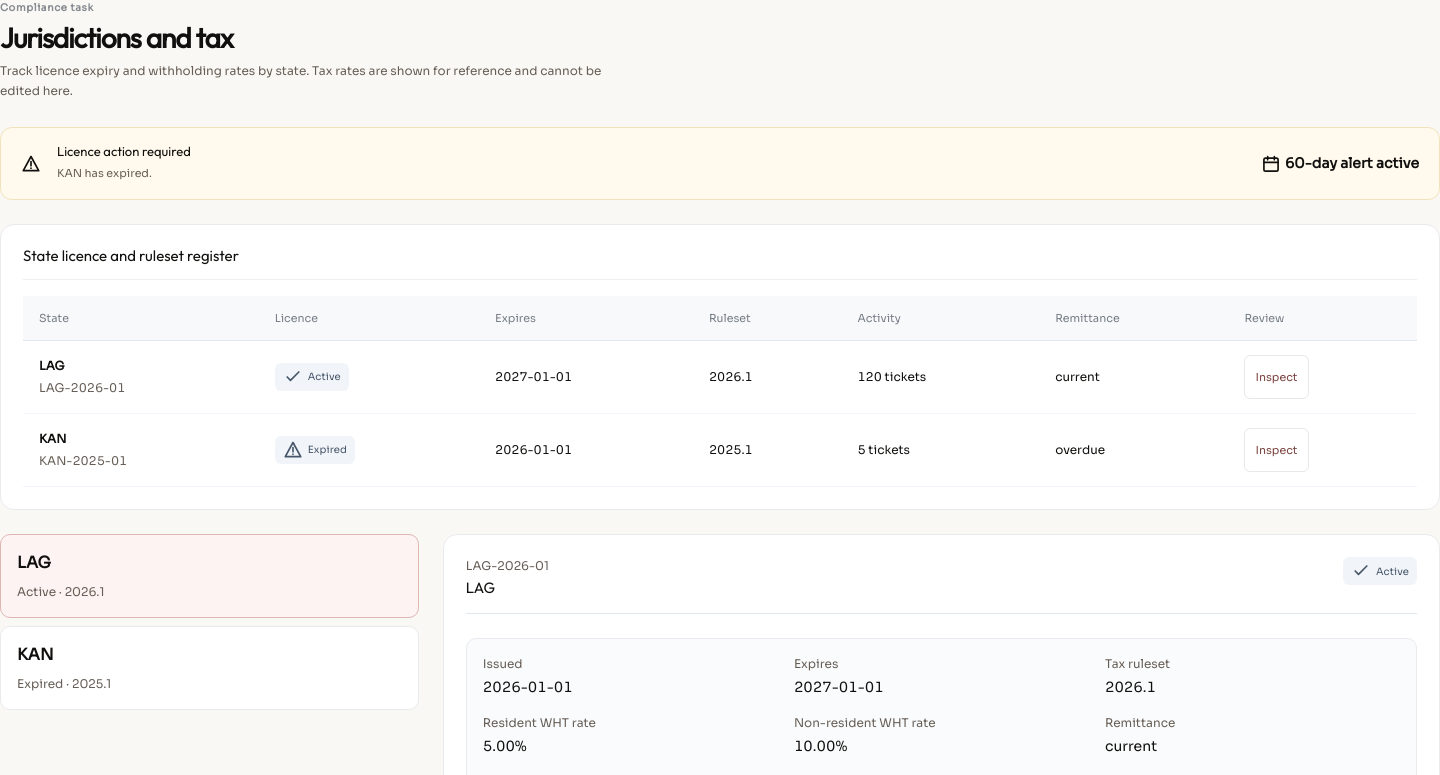
Test: JurisdictionConsole › updates a licence record via the real endpoint and shows it applies immediately
Check: the table named "Jurisdiction licence" is shown, box [23,296,1417,487]
Click the 1st button "Inspect": (1277, 377) [1244,355,1309,399]
(page scrolled)
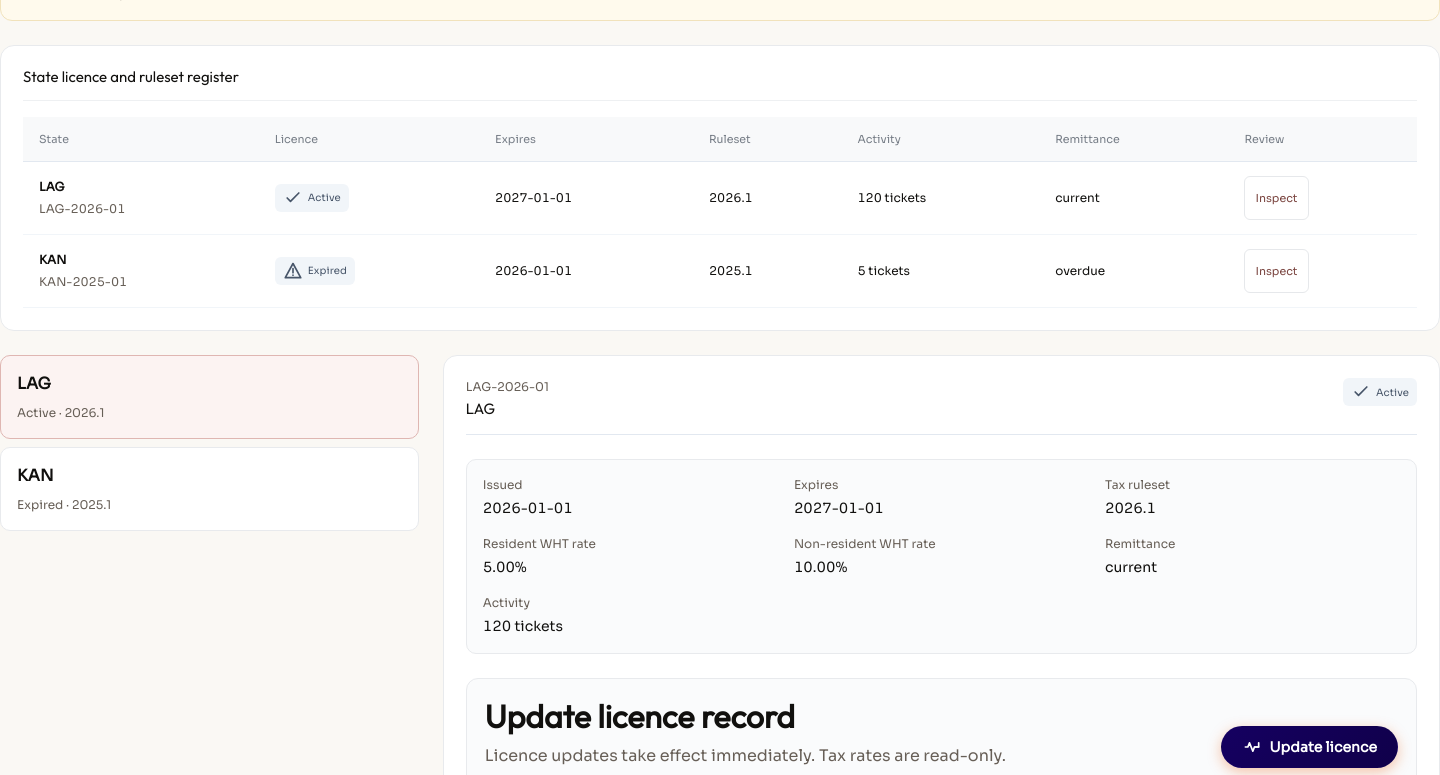
Click the button "Update licence": (1309, 746) [1221,726,1398,768]
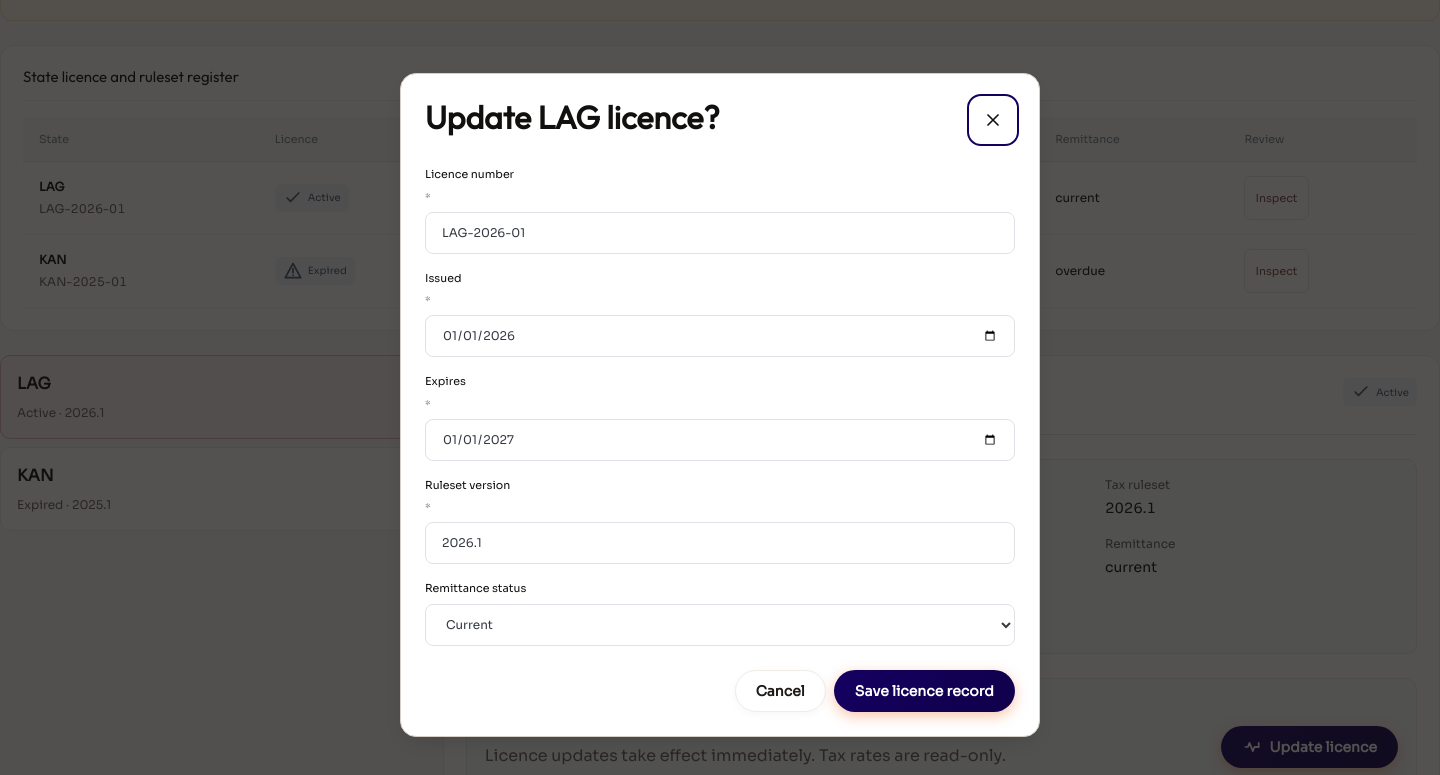
Replace the text in the field labelled "Licence number *" with "LAG-2026-02": (720, 233) [425,212,1015,254]
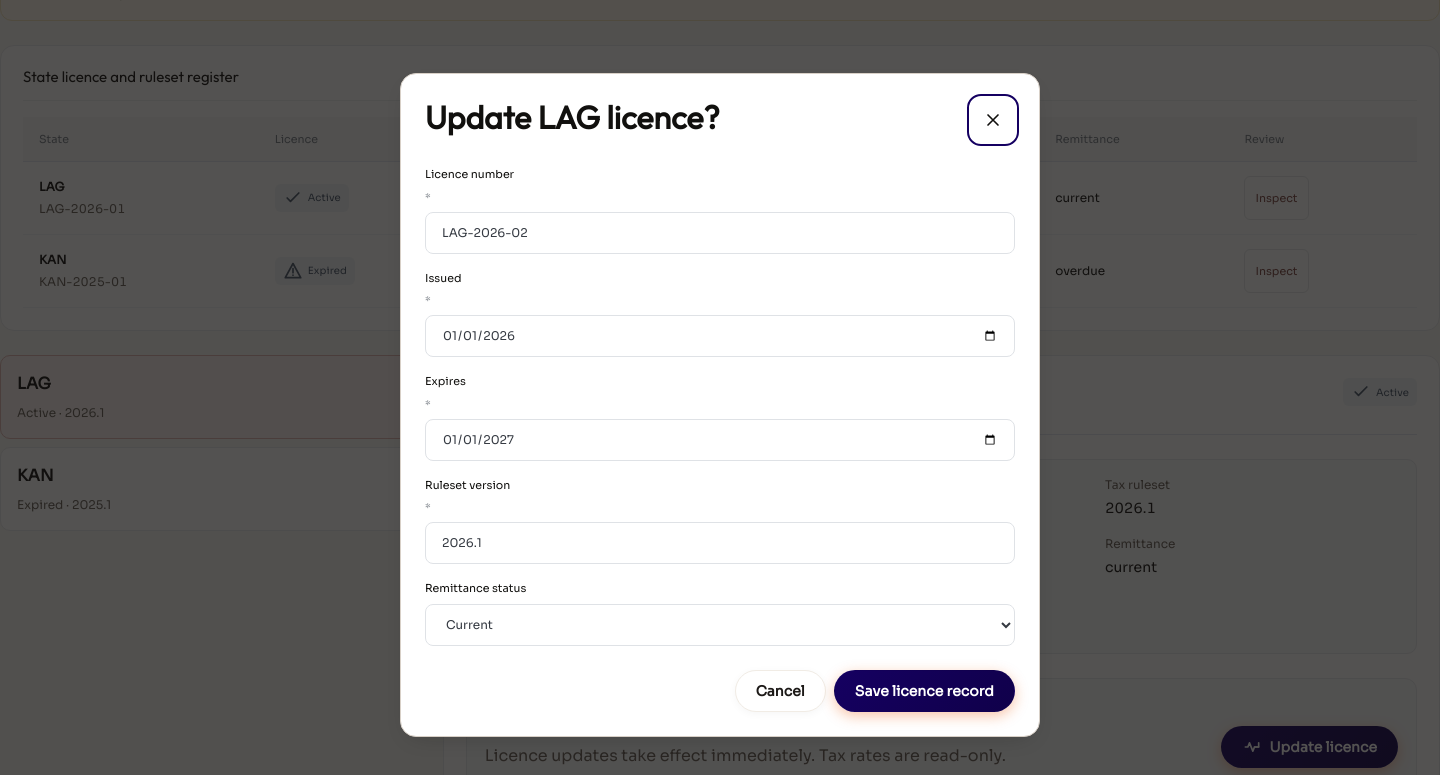
Click the button "Save licence record": (924, 691) [834,670,1015,712]
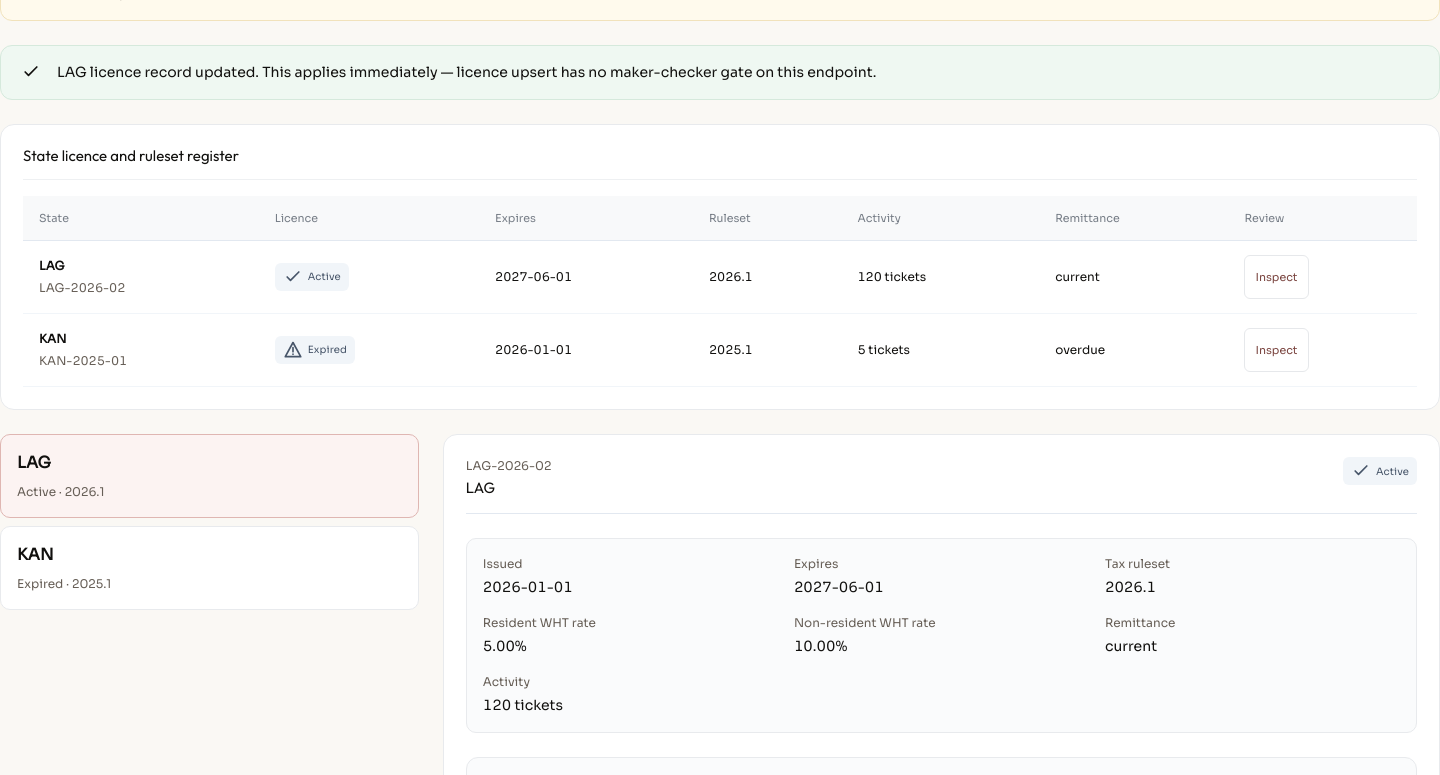
Check: the message shows "applies immediately", box [57,63,876,81]
